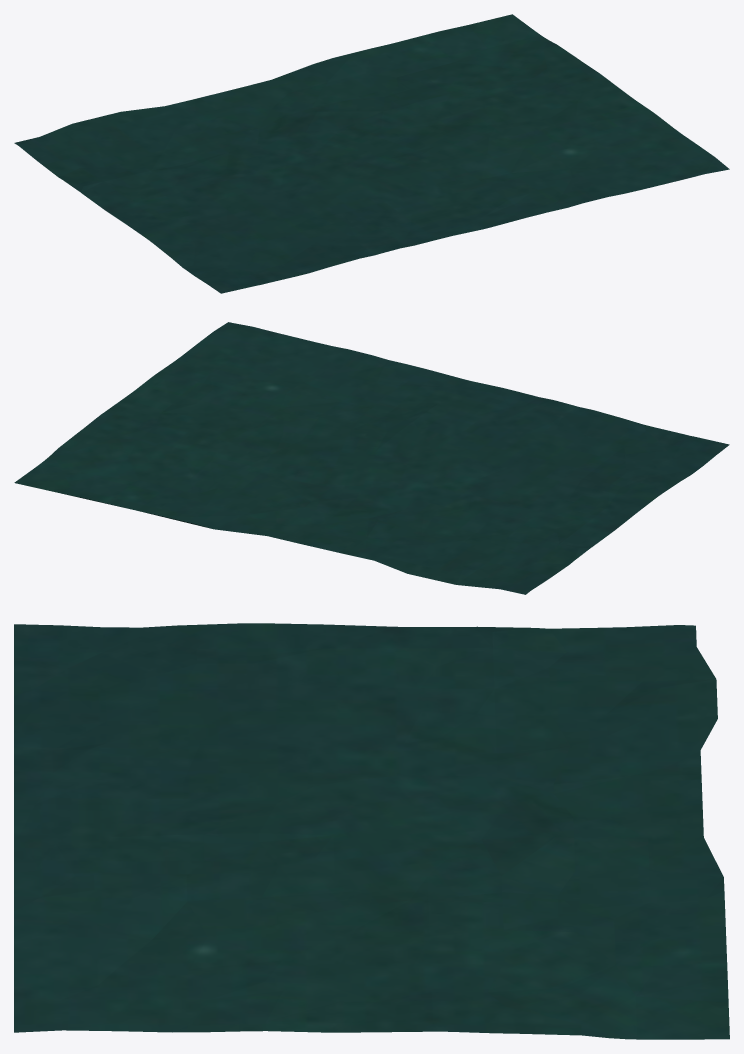
3 views of the same model, one above another, from view 1: azimuth 30°, elevation 25°; view 2: azimuth 150°, elevation 25°; view 3: azimuth 270°, elevation 25° (orthographic). The views are drawn at different scales.
Bounding box in the file's own units: 52.22 × 0.6779 × 38.66.
Materials: 2 (2 with a texture image).
